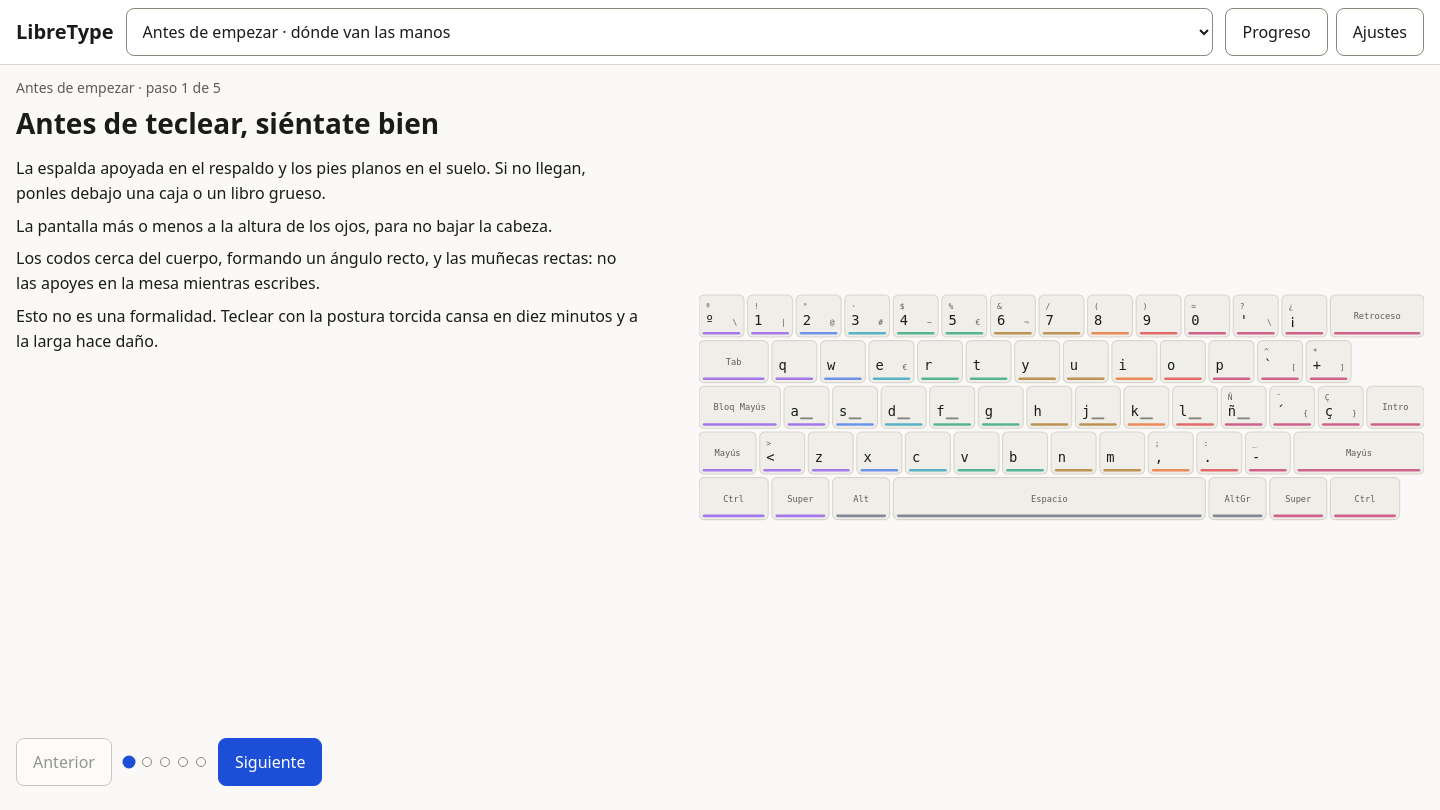
captura y paneles › permite introducir texto propio para práctica libre (Issue #19)
Select "1. Fila de reposo · Disponible" in the dropdown: (670, 32) x1=126 y1=8 x2=1214 y2=56
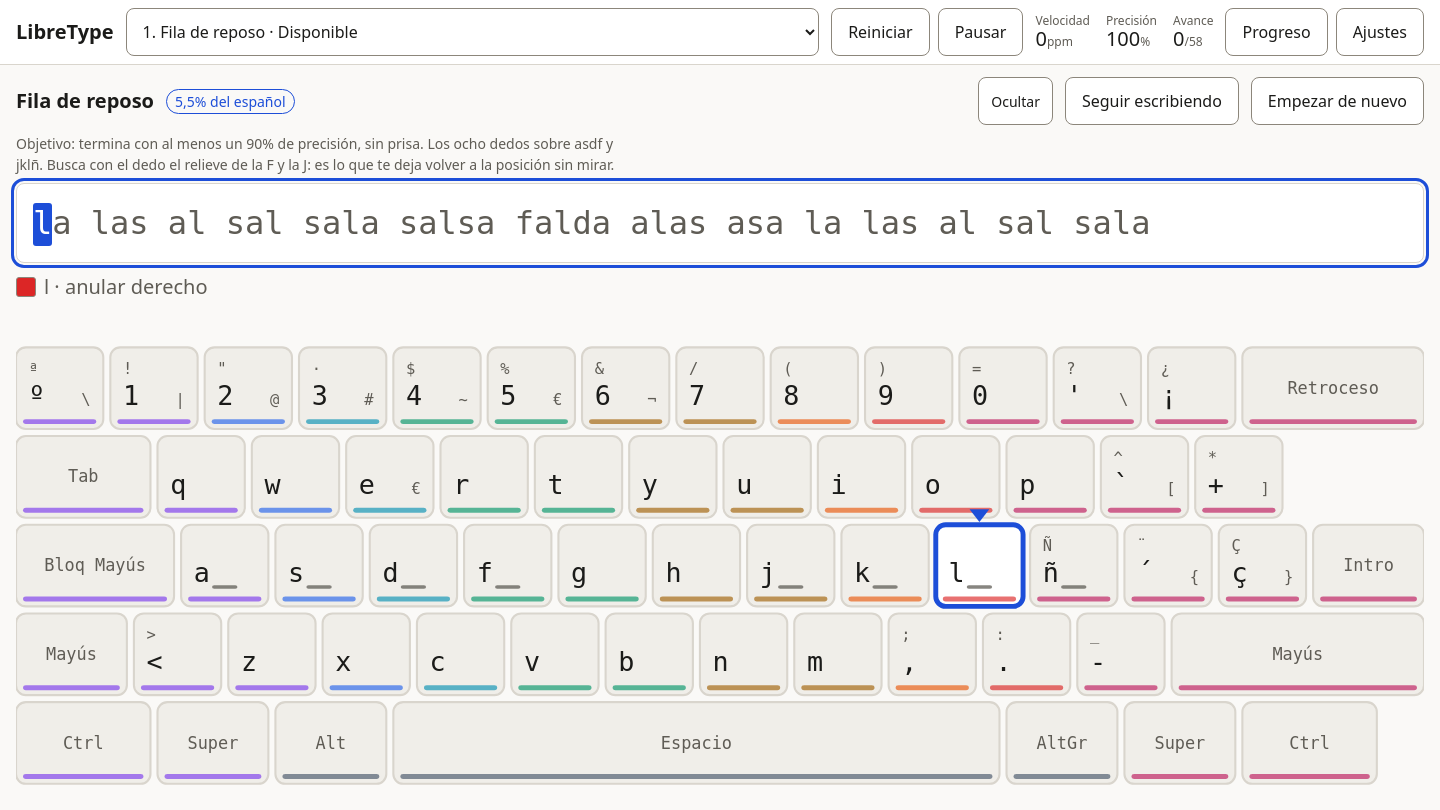
Select "Texto propio · práctica libre" in the dropdown: (472, 32) x1=126 y1=8 x2=819 y2=56
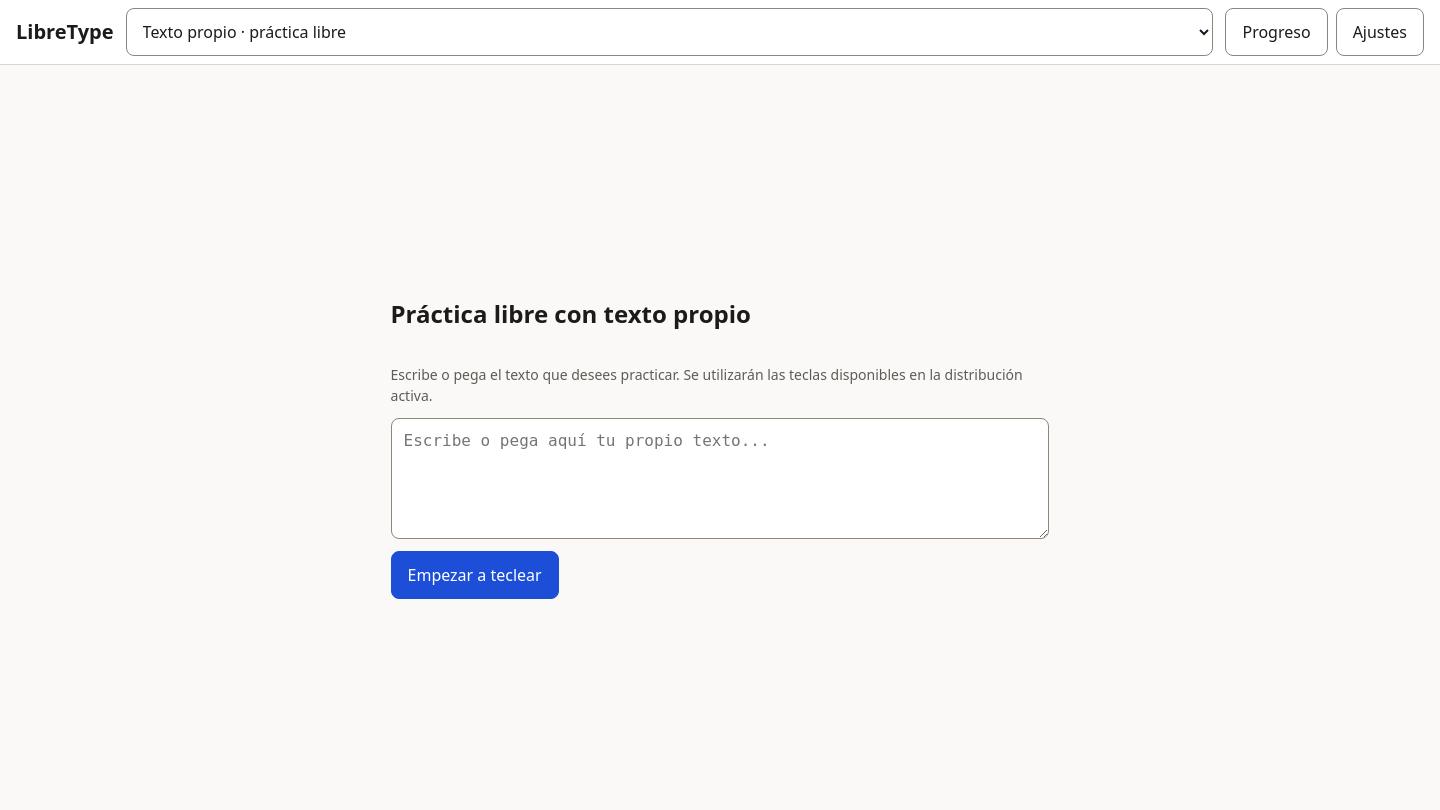
Check: the heading "Práctica libre con texto propio" is shown, box x1=390 y1=297 x2=751 y2=330
Check: the text box with class "input-texto-propio" is shown
In the text box with class "input-texto-propio": (720, 478) x1=390 y1=418 x2=1049 y2=539, type "hola mundo"
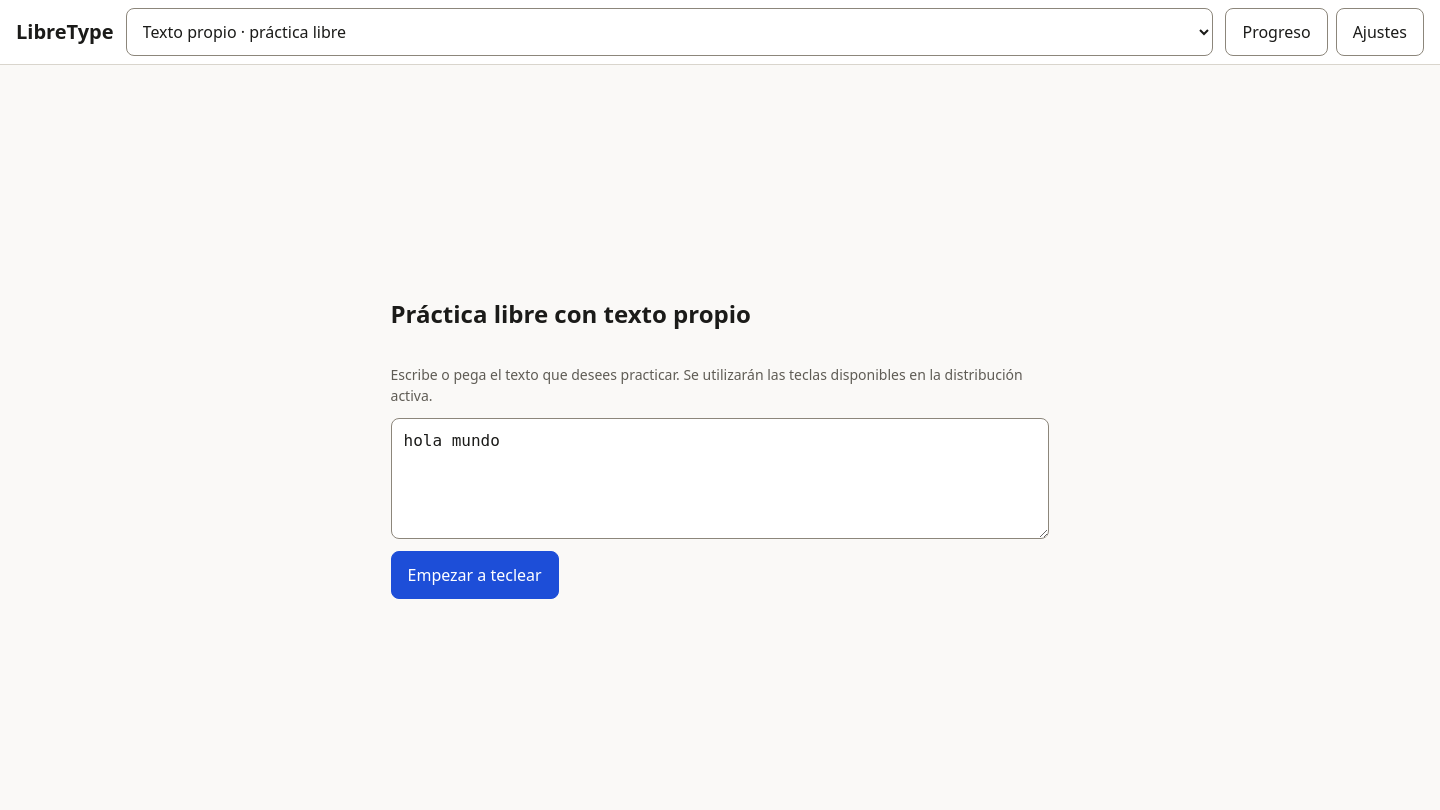
Click the button "Empezar a teclear": (475, 575) x1=390 y1=551 x2=559 y2=599
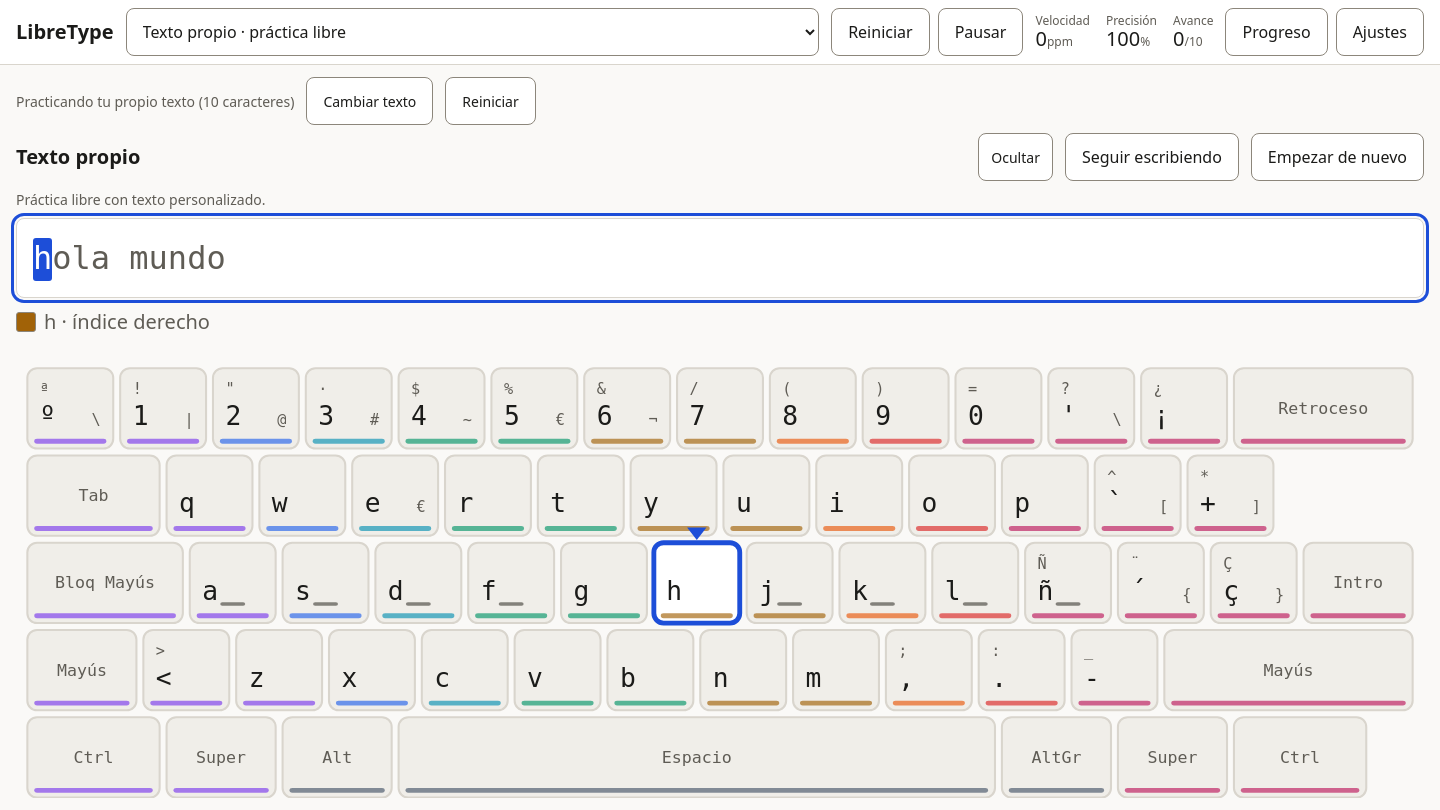
Check: the heading "Texto propio" is shown, box x1=16 y1=142 x2=140 y2=172
Check: the text "hola mundo" is shown, box x1=16 y1=218 x2=1424 y2=298
